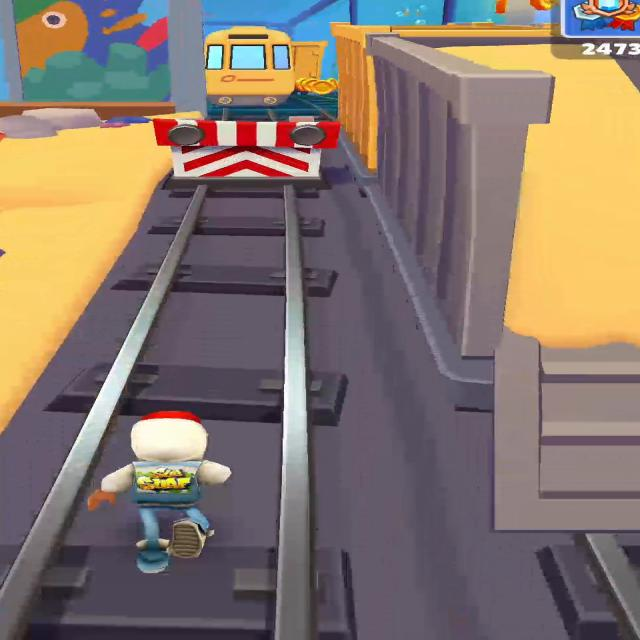climber: (445, 44, 639, 532)
roll blocker: (154, 119, 340, 188)
train: (452, 46, 639, 528), (333, 25, 554, 357), (335, 27, 554, 357), (204, 26, 303, 107), (292, 41, 327, 79)
